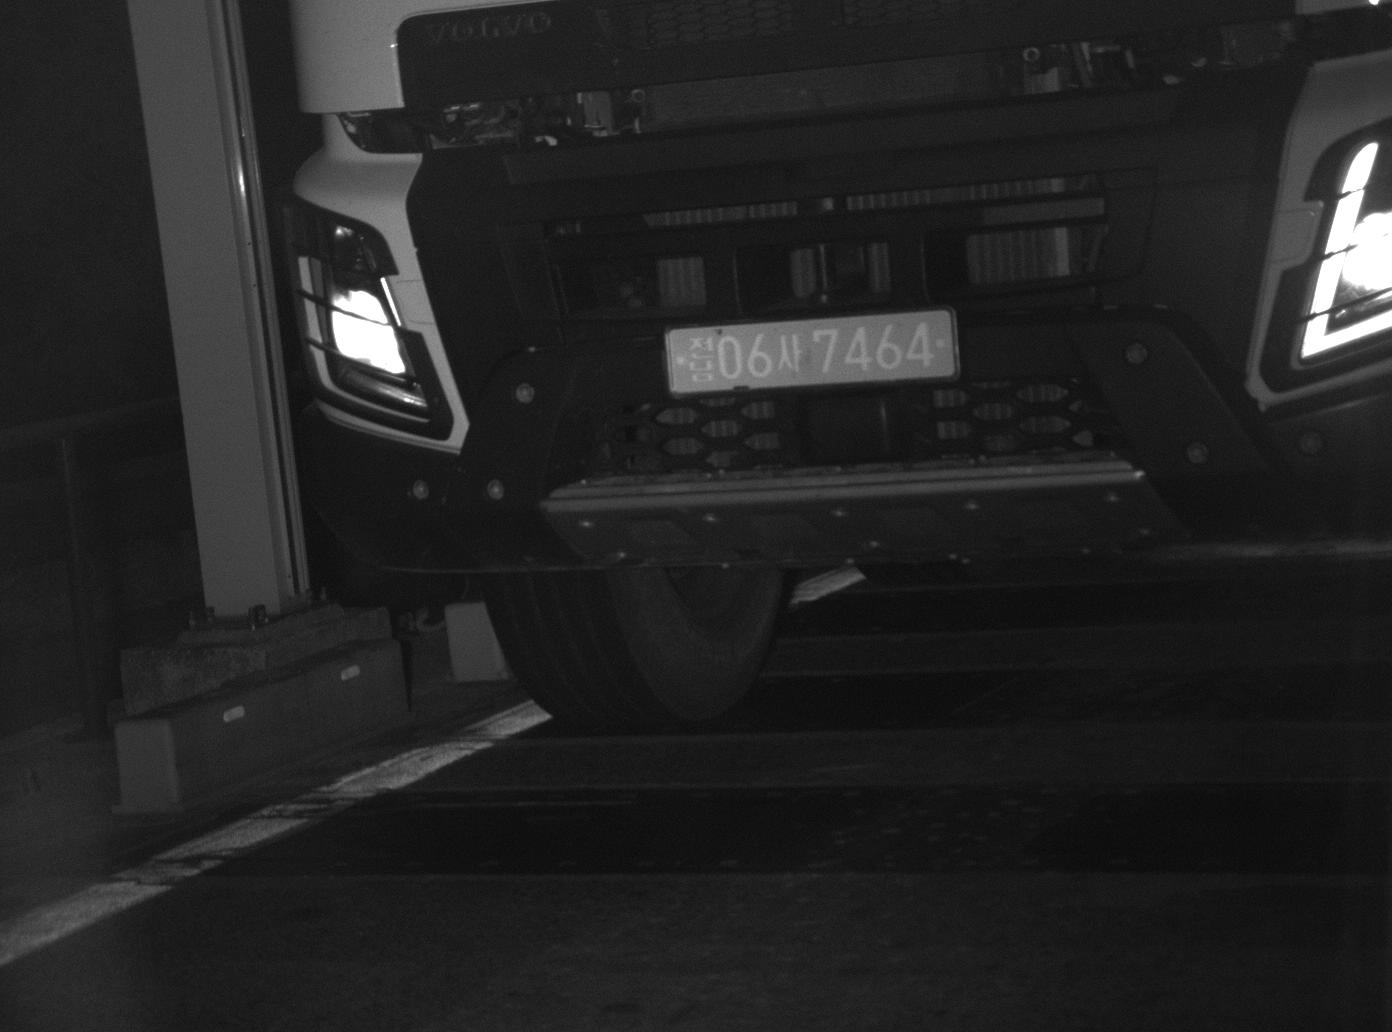car: (286, 1, 1392, 736)
plate: (664, 307, 959, 396)
